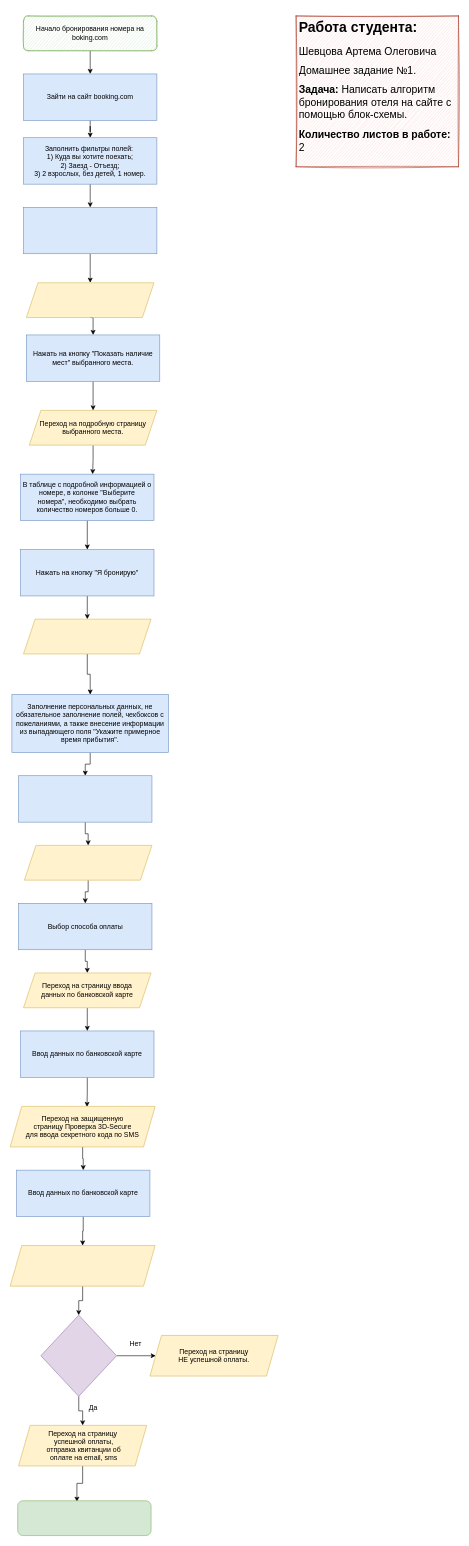
The diagram is 469 pixels wide and 1546 high, and some of its shapes have lost their labels. The shapes that lost their labels are listed below. From the top down, each one's centre as x and y in pixels, then its label:
pixel 90 230: Нажать на кнопку "Проверить цены"
pixel 90 300: Вывести результат исходя из заполненных данных полей.
pixel 87 636: Переход на страницу с заполнение персональных данных
pixel 85 798: Нажатие на кнопку "Далее: Финальные данные".
pixel 88 862: Переход на страницу выбора способа оплаты
pixel 82 1265: Проверка эквайринга
pixel 78 1355: Проверка эквайринга прошла успешно?
pixel 84 1518: Бронирование номера завершено
